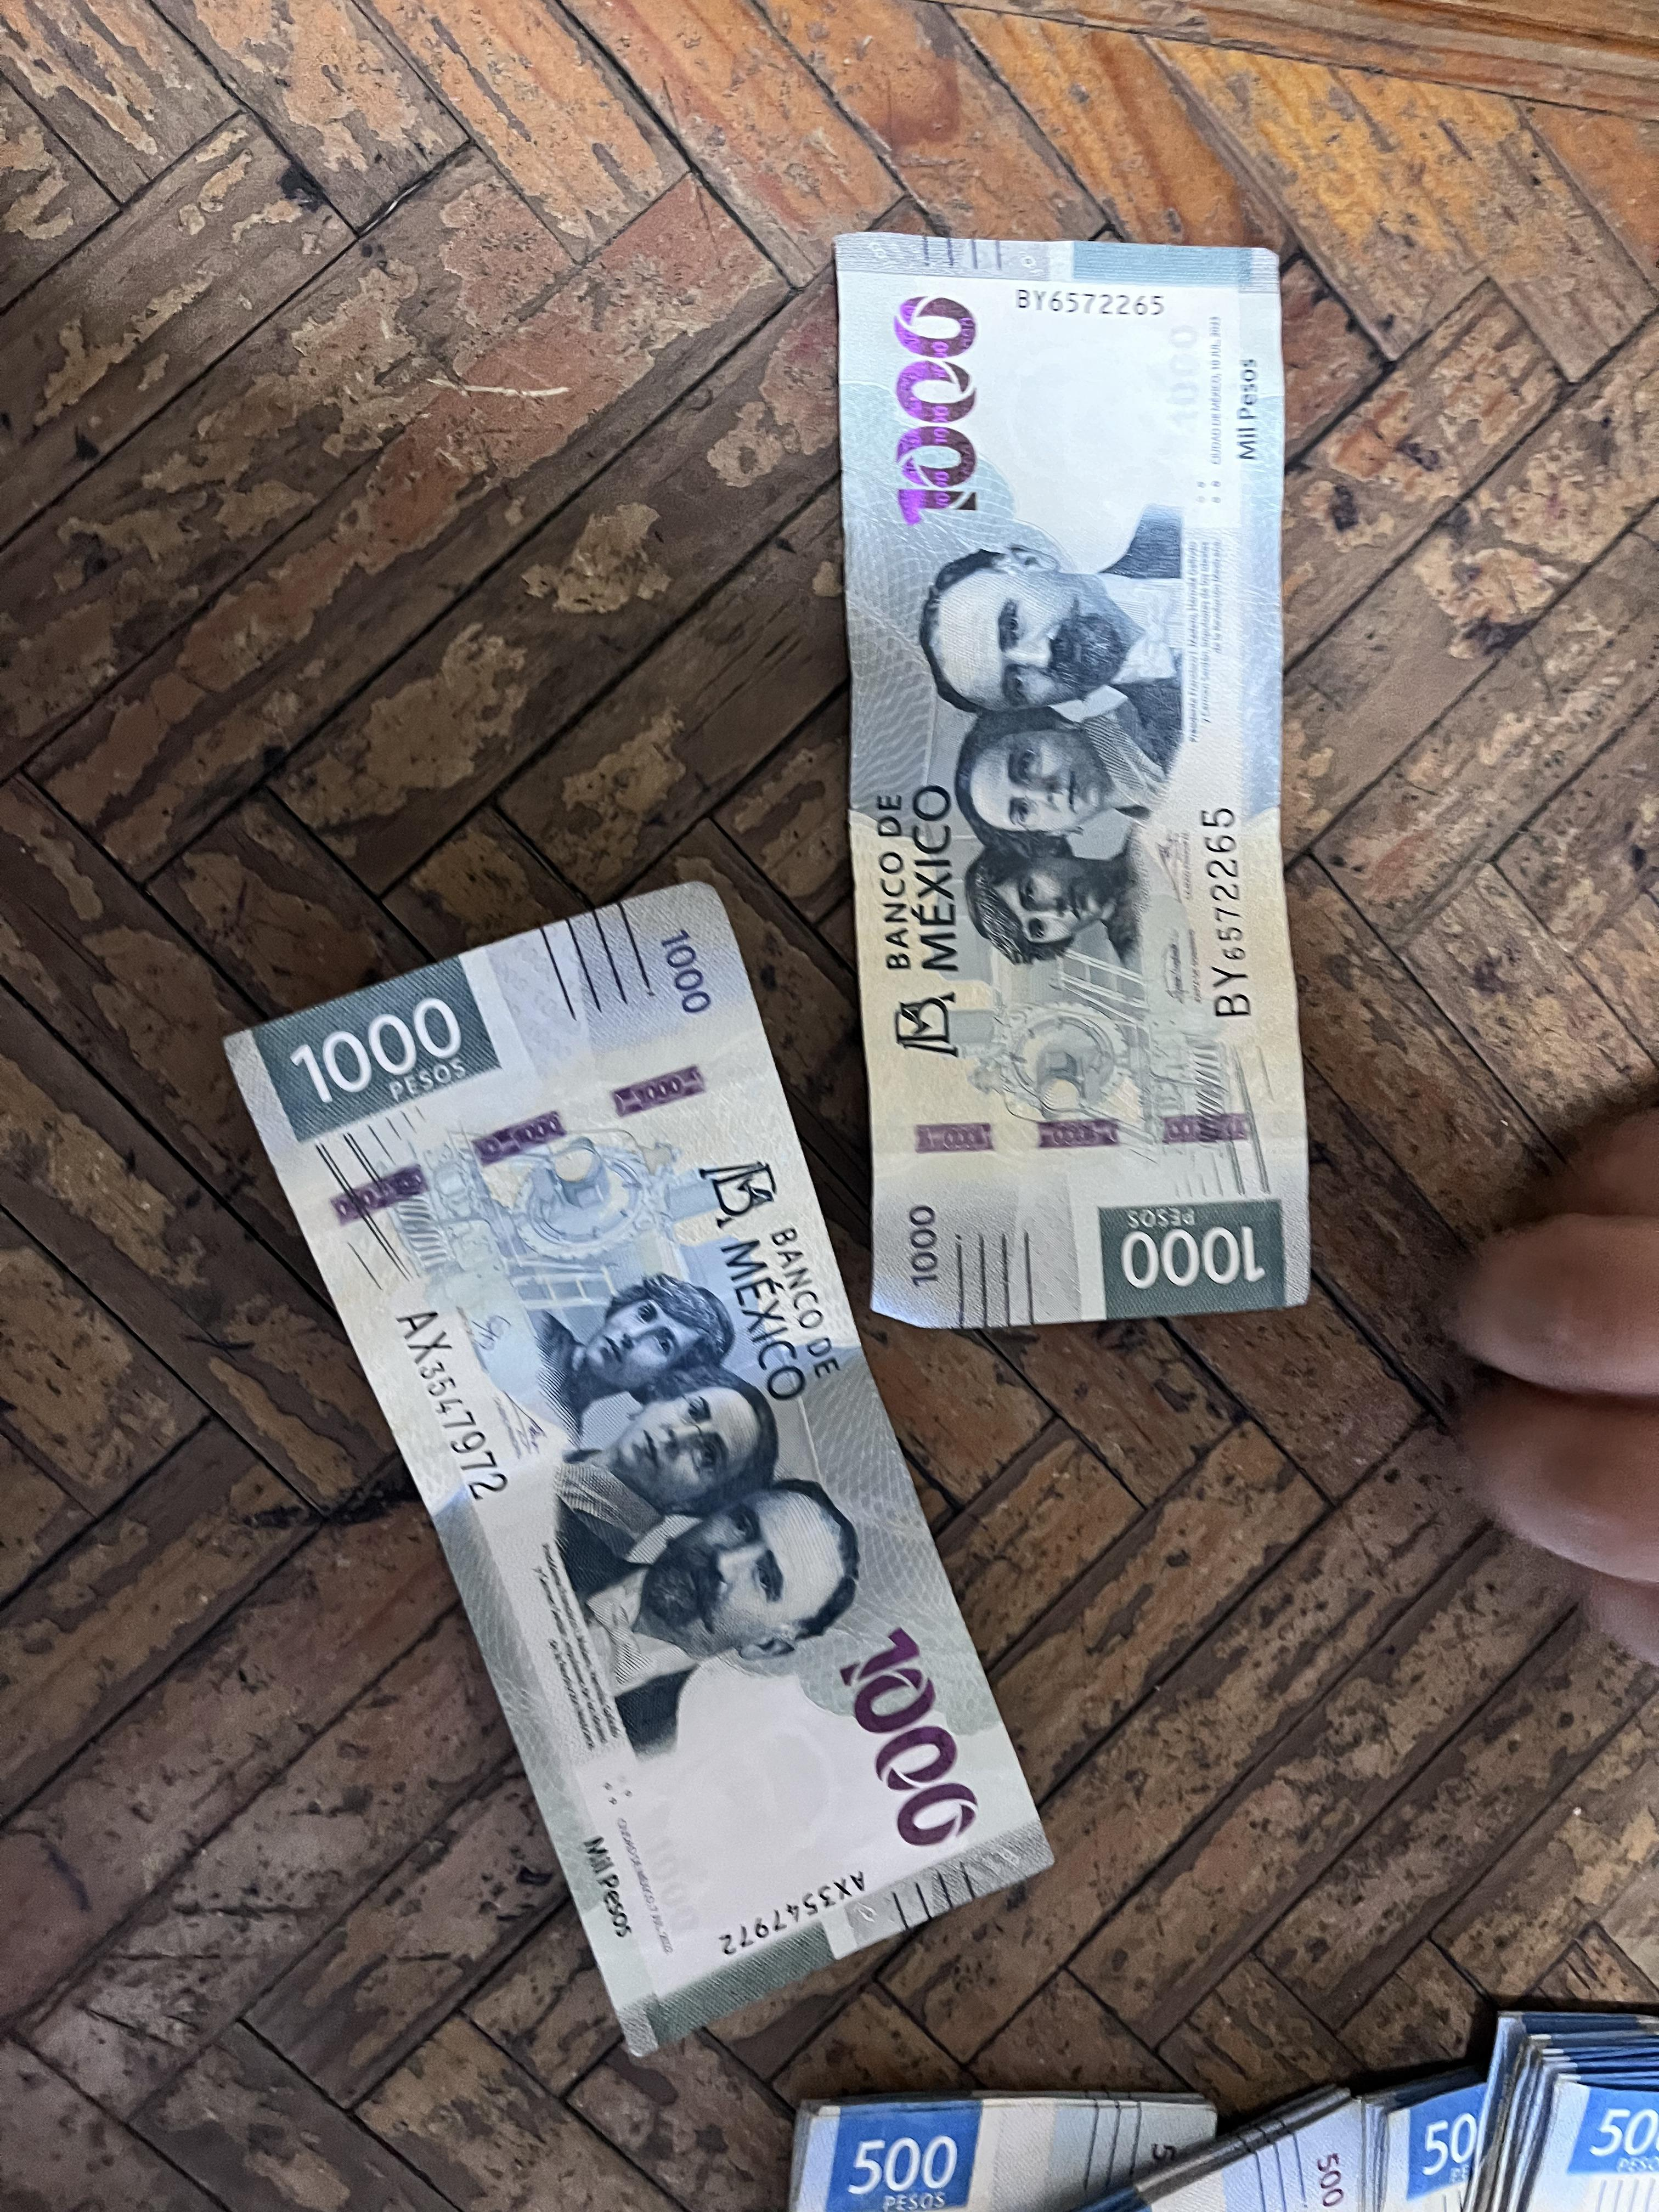1000: (214, 846, 1086, 2083), (836, 219, 1326, 1317)
500 nuevo: (795, 2071, 1246, 2212), (1516, 2000, 1659, 2212), (1391, 2074, 1507, 2212)
